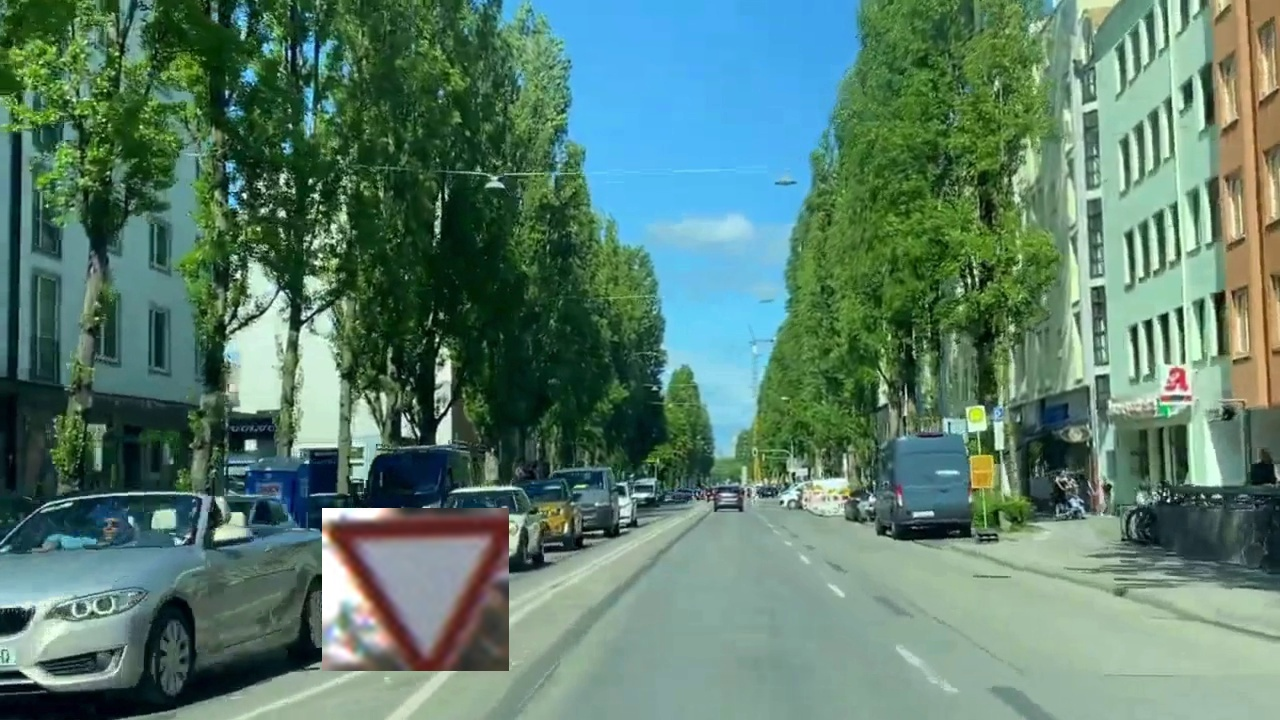Yield: (322, 508, 509, 671)
